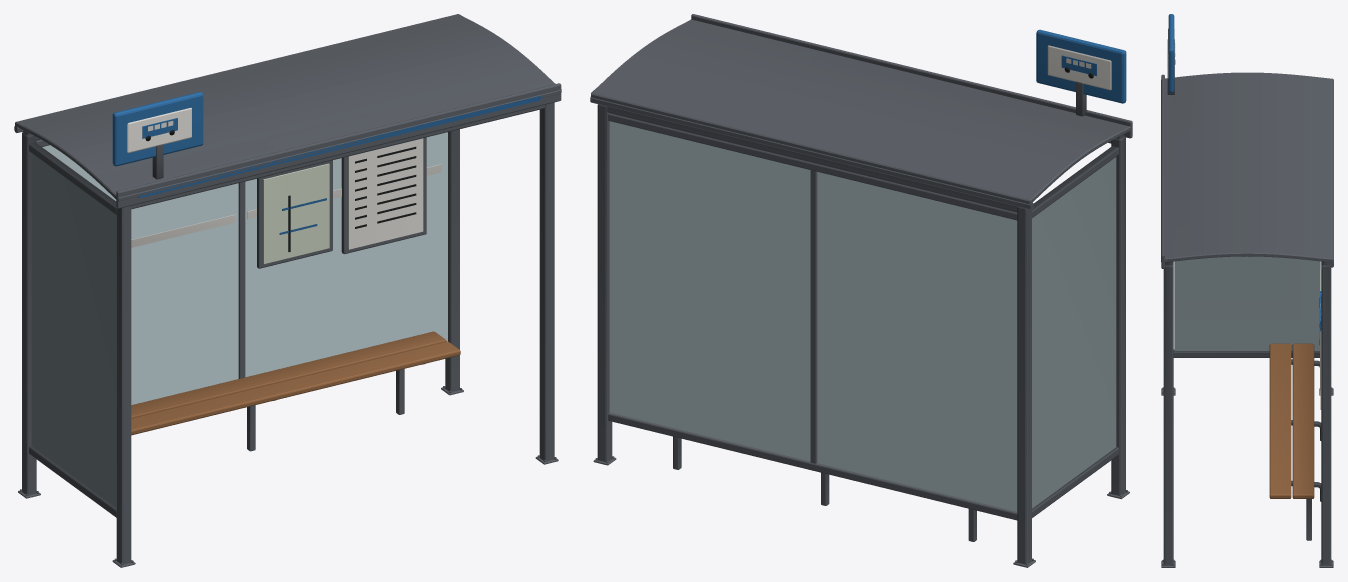
Rendered from busStop.glb.
3 renders of one model, left to right at view 1: azimuth 30°, elevation 25°; view 2: azimuth 150°, elevation 25°; view 3: azimuth 270°, elevation 25°, orthographic. The views are drawn at different scales.
Parts seen in each view (by area): view 1: busStop; view 2: busStop; view 3: busStop.
Part boxes in pixels (<box>): busStop: <box>14,14,561,567</box>; busStop: <box>590,14,1132,567</box>; busStop: <box>1161,14,1333,567</box>.
Size of the model in its own units: 2.98 by 2.89 by 1.21.
